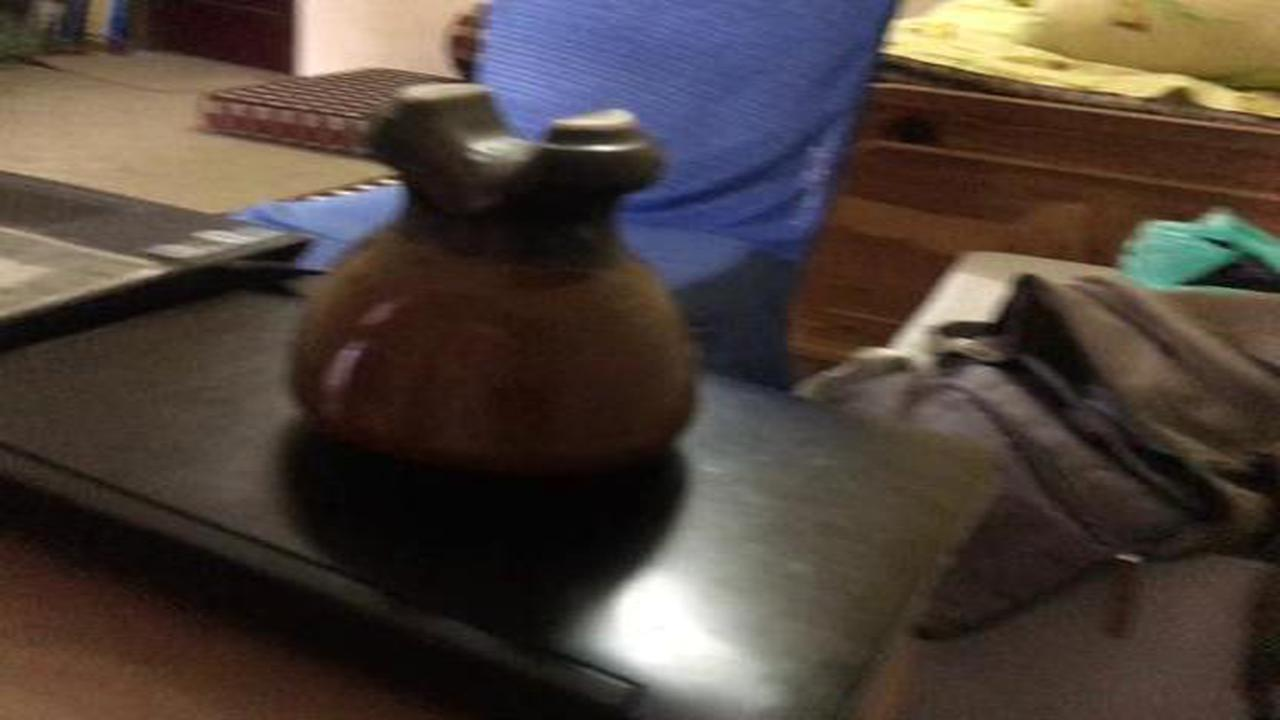insulator_pin: (258, 66, 742, 521)
